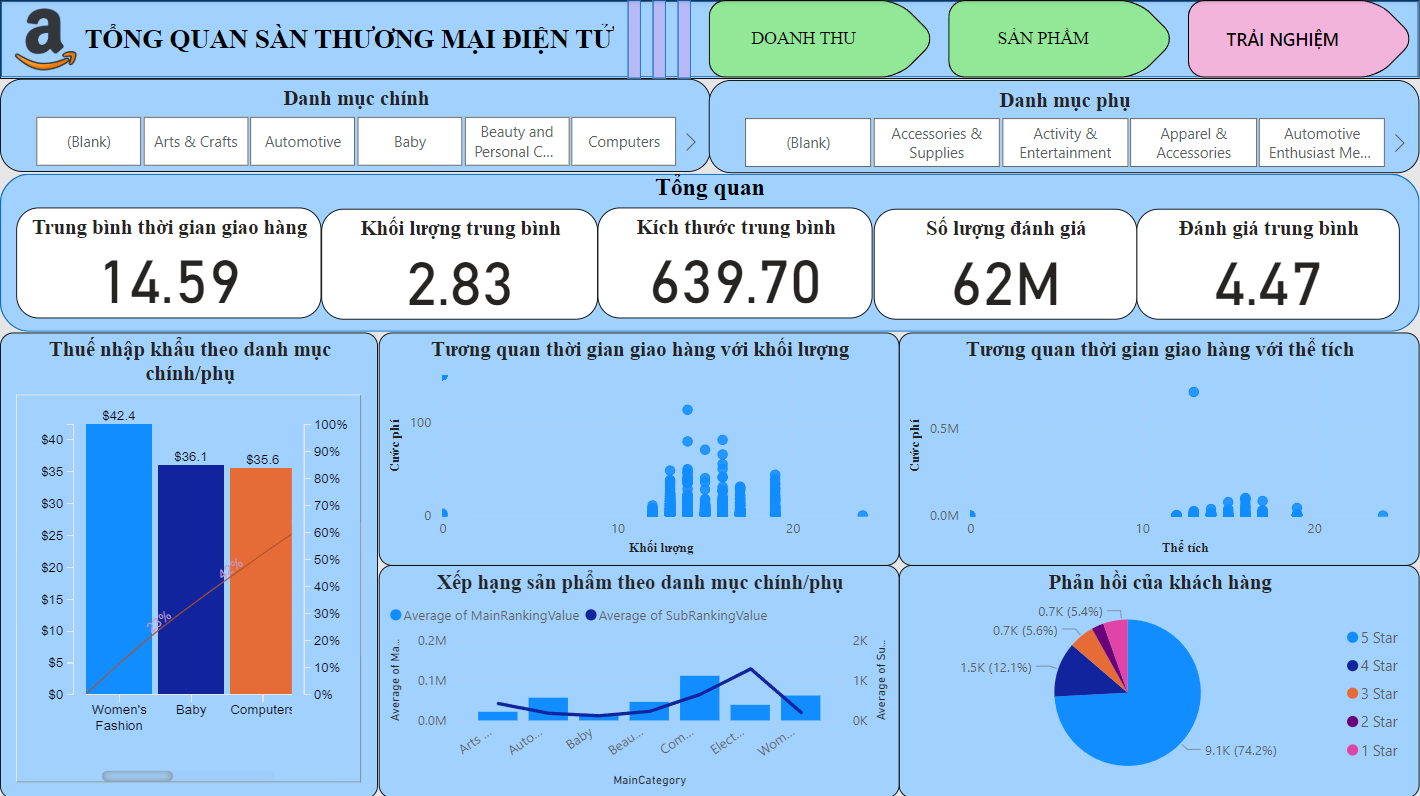

What the dashboard file says about the page in this screenshot:
{"tool":"powerbi","page":{"name":"TRẢI NGHIỆM","canvas":[1280,720],"ordinal":2},"visuals":[{"type":"shape","box":[0,156.2,1280,142.5],"z":0},{"type":"shape","box":[0,0,1280.3,70.9],"z":1000},{"type":"image","box":[0,0,82.3,71.4],"z":2000},{"type":"slicer","title":"Danh mục chính","fields":{"Values":["staging dim_category.MainCategory"]},"box":[0,70.9,640.8,84.4],"z":3000},{"type":"slicer","title":"Danh mục phụ","fields":{"Values":["staging dim_category.SubCategory"]},"box":[639.5,72.1,640.8,84.4],"z":4000},{"type":"card","title":"Khối lượng trung bình","fields":{"Values":["Avg(staging dim_measurements.Weight)"]},"box":[289.5,188,249.7,100.2],"z":5000},{"type":"card","title":"Đánh giá trung bình","fields":{"Values":["Avg(staging dim_ratings.Overall_Rating)"]},"box":[1024.7,188.3,237.2,100.3],"z":6000},{"type":"card","title":"Số lượng đánh giá","fields":{"Values":["Sum(staging dim_ratings.Review_Count)"]},"box":[787.5,188.3,237.2,100.3],"z":7000},{"type":"card","title":"Trung bình thời gian giao hàng","fields":{"Values":["Avg(staging fact_customer_experience.delivery_time_days)"]},"box":[15,187.5,275,100],"z":8000},{"type":"card","title":"Kích thước trung bình","fields":{"Values":["Avg(staging dim_measurements.Volumn)"]},"box":[539.3,187.1,248.2,100.3],"z":9000},{"type":"scatterChart","title":"Tương quan thời gian giao hàng với thể tích","fields":{"X":["staging fact_customer_experience.delivery_time_days"],"Y":["staging dim_measurements.Volumn"]},"box":[810.7,299.6,469.6,210.3],"z":10000},{"type":"shape","box":[566.2,0,12.2,70.9],"z":11000},{"type":"shape","box":[611.4,0,12.2,70.9],"z":12000},{"type":"shape","box":[588.2,0,12.2,70.9],"z":13000},{"type":"pageNavigator","box":[639.2,0,640.8,70.9],"z":14000},{"type":"scatterChart","title":"Tương quan thời gian giao hàng với khối lượng","fields":{"X":["staging fact_customer_experience.delivery_time_days"],"Y":["staging dim_measurements.Weight"]},"box":[341.2,299.6,469.6,210.3],"z":15000},{"type":"pieChart","title":"Phản hồi của khách hàng","fields":{"Y":["Sum(staging dim_ratings.5Star)","Sum(staging dim_ratings.4Star)","Sum(staging dim_ratings.3Star)","Sum(staging dim_ratings.2Star)","Sum(staging dim_ratings.1Star)"]},"box":[810.7,509.9,469.6,210.3],"z":16000},{"type":"paretoplus2EFEC13210A14D3E82580687601DE984","title":"Thuế nhập khẩu theo danh mục chính/phụ","fields":{"categories":["staging dim_category.MainCategory","staging dim_category.SubCategory"],"values":["Avg(staging fact_customer_experience.Estimated_Import_Charges)"]},"box":[0,299.6,341.2,420.7],"z":17000},{"type":"lineStackedColumnComboChart","title":"Xếp hạng sản phẩm theo danh mục chính/phụ","fields":{"Y":["Avg(staging fact_customer_experience.MainRankingValue)"],"Y2":["Avg(staging fact_customer_experience.SubRankingValue)"],"Category":["staging dim_category.MainCategory","staging dim_category.SubCategory"]},"box":[341.2,509.9,469.6,210.3],"z":18000}]}

Visuals, with their boxes in screenshot pixels (x1, y1, x2, y2), scaled from the page's 1280x720 canvas onto the 1420x796 screenshot:
shape: [0,173,1419,330]
shape: [0,0,1419,78]
image: [0,0,91,79]
"Danh mục chính" slicer: [0,78,711,172]
"Danh mục phụ" slicer: [709,80,1419,173]
"Khối lượng trung bình" card: [321,208,598,319]
"Đánh giá trung bình" card: [1137,208,1400,319]
"Số lượng đánh giá" card: [874,208,1137,319]
"Trung bình thời gian giao hàng" card: [17,207,322,318]
"Kích thước trung bình" card: [598,207,874,318]
"Tương quan thời gian giao hàng với thể tích" scatterChart: [899,331,1419,564]
shape: [628,0,642,78]
shape: [678,0,692,78]
shape: [653,0,666,78]
pageNavigator: [709,0,1419,78]
"Tương quan thời gian giao hàng với khối lượng" scatterChart: [379,331,899,564]
"Phản hồi của khách hàng" pieChart: [899,564,1419,795]
"Thuế nhập khẩu theo danh mục chính/phụ" paretoplus2EFEC13210A14D3E82580687601DE984: [0,331,379,795]
"Xếp hạng sản phẩm theo danh mục chính/phụ" lineStackedColumnComboChart: [379,564,899,795]
